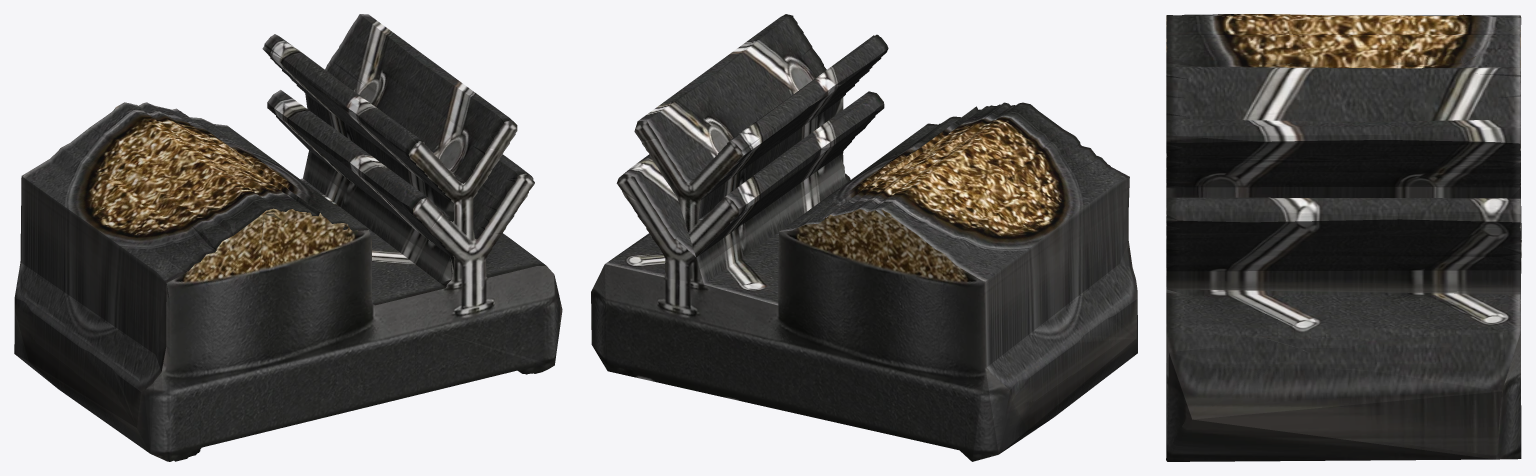
Rendered from stand.glb.
3 views of the same model, side by side, from view 1: azimuth 30°, elevation 25°; view 2: azimuth 150°, elevation 25°; view 3: azimuth 270°, elevation 25° (orthographic). The views are drawn at different scales.
Parts seen in each view (by area): view 1: stand; view 2: stand; view 3: stand.
Part boxes in pixels (bbox=[...]): stand: bbox=[14, 14, 562, 461]; stand: bbox=[591, 14, 1137, 461]; stand: bbox=[1166, 14, 1521, 461].
Size of the model in its own units: 121 by 71.35 by 71.94.
Materials: 1 (1 with a texture image).
